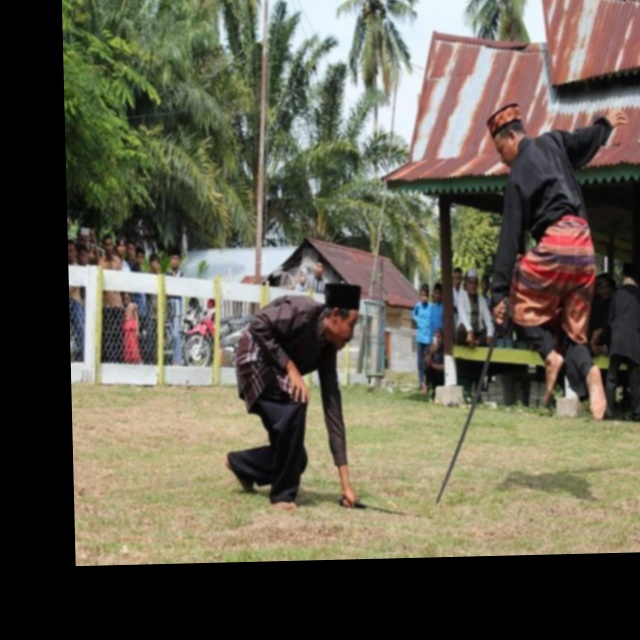Sharp-Object: (427, 295, 514, 510)
